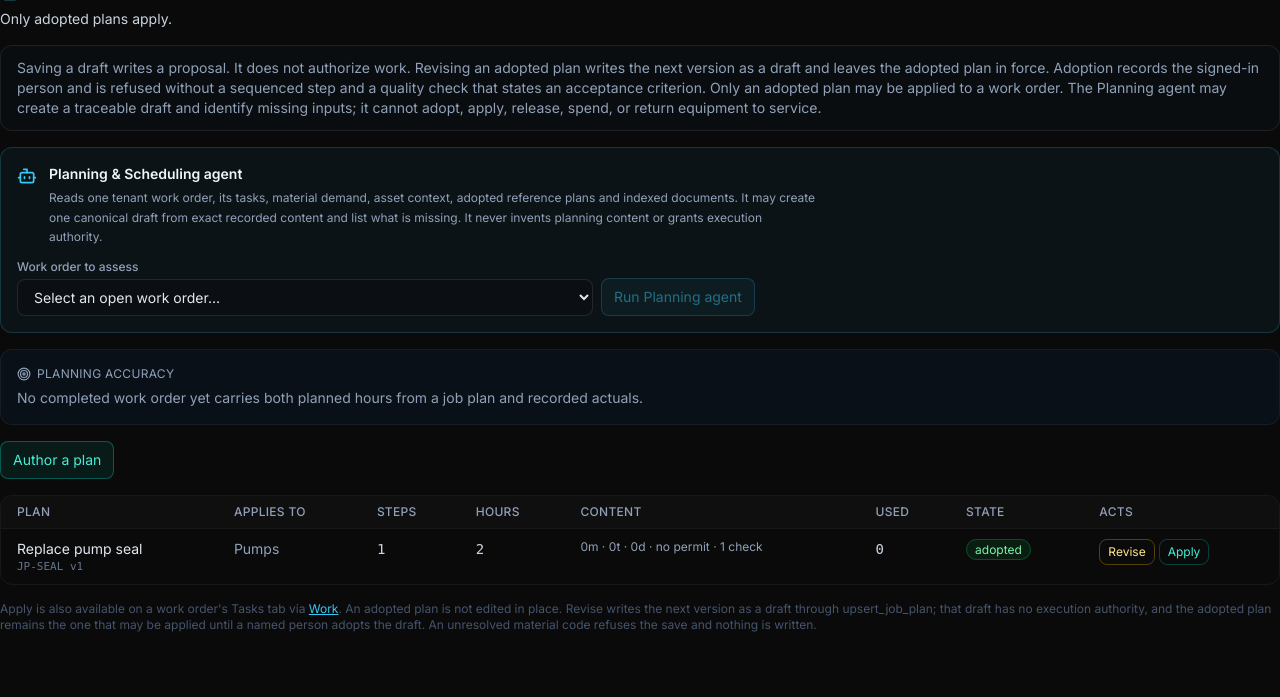
Test: JobPlans authoring surface › revises an adopted plan through upsert_job_plan as a new draft version
Click the button "Revise". click: (1127, 552)
box: top-left (1099, 538), bottom-right (1155, 564)
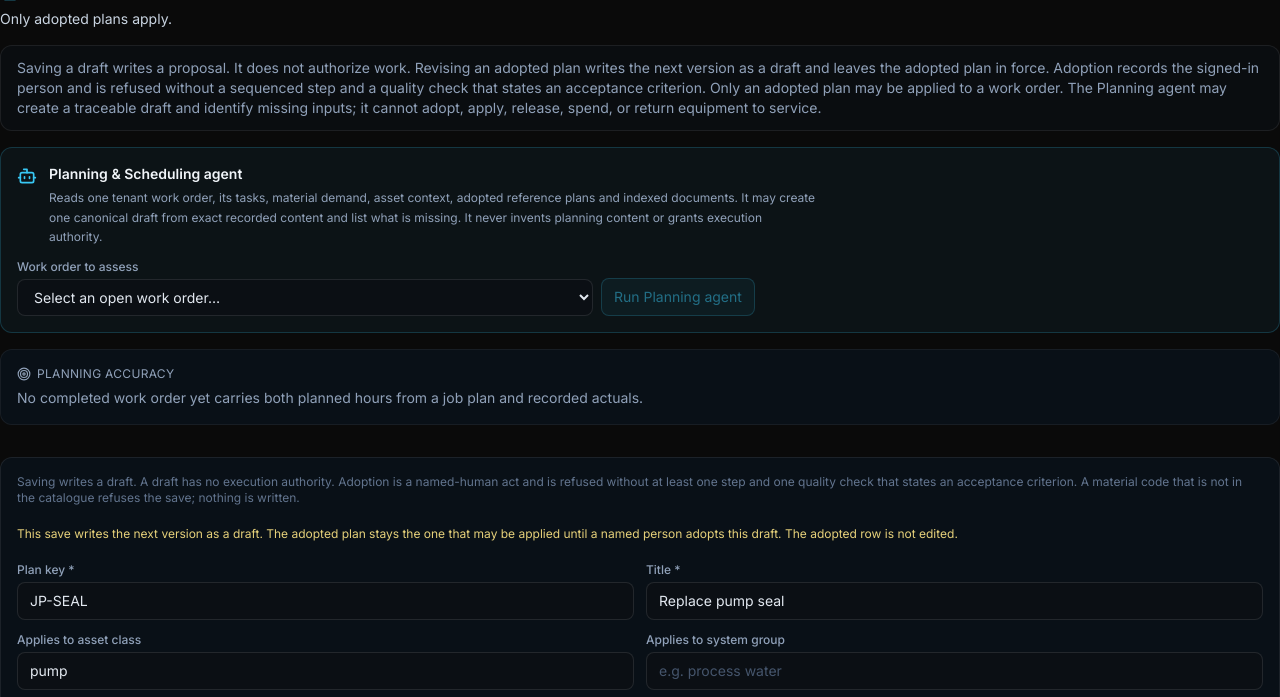
Check: the text with test id "job-plan-revision" shows "adopted plan stays", box top-left (17, 526), bottom-right (958, 540)
Replace the text in the field named "Plan title" with "Replace pump seal — revised". click: (954, 600)
box: top-left (646, 582), bottom-right (1263, 620)
(page scrolled)
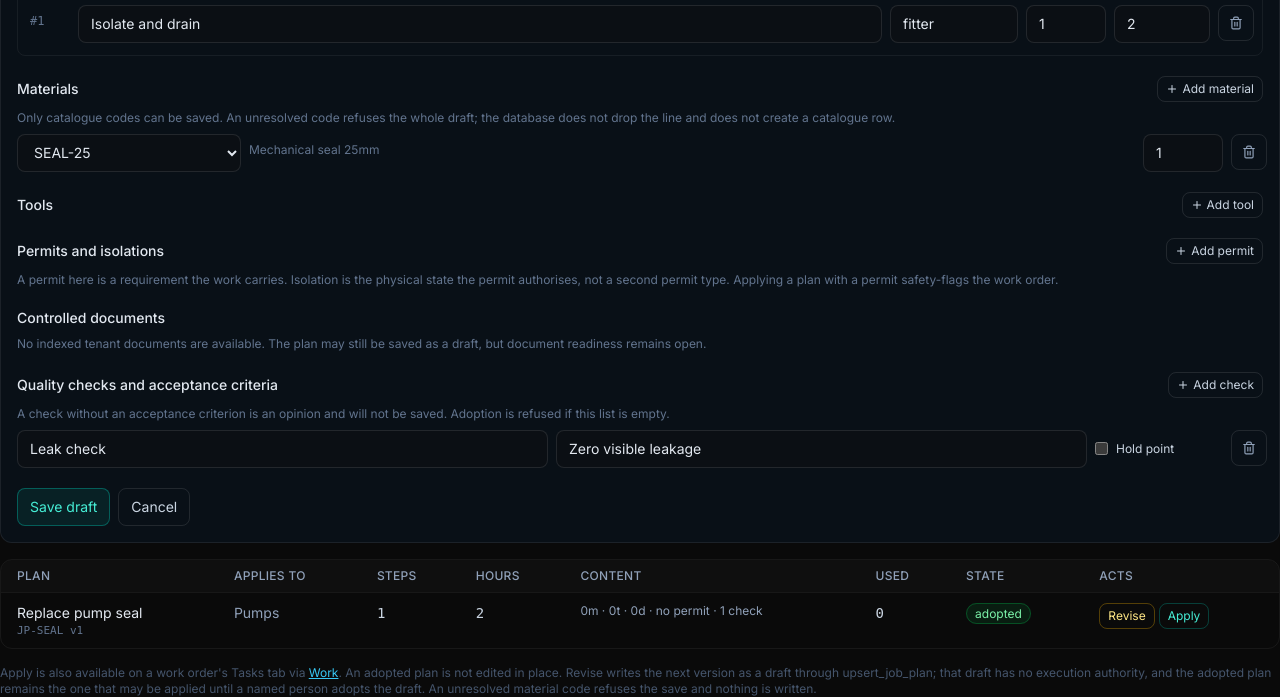
Click the button "Save draft". click: (64, 506)
box: top-left (17, 488), bottom-right (110, 526)
(page scrolled)
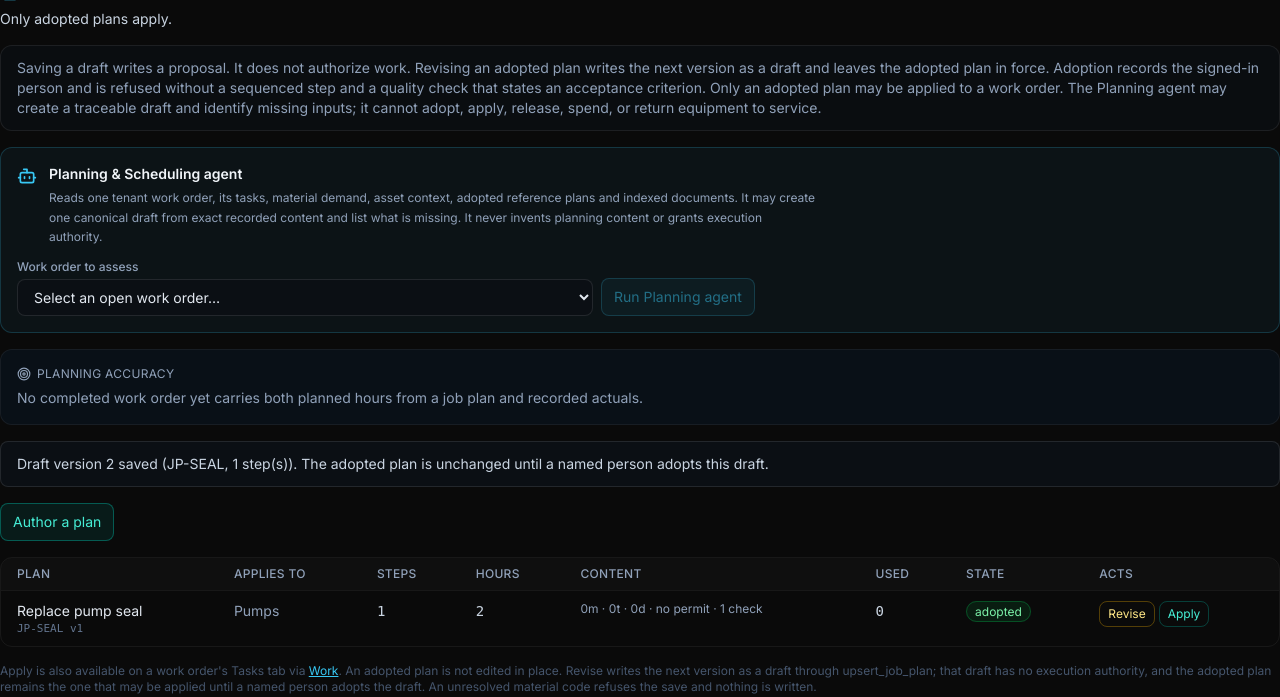
Check: the text "adopted plan is unchanged" is shown, box top-left (17, 454), bottom-right (769, 472)
